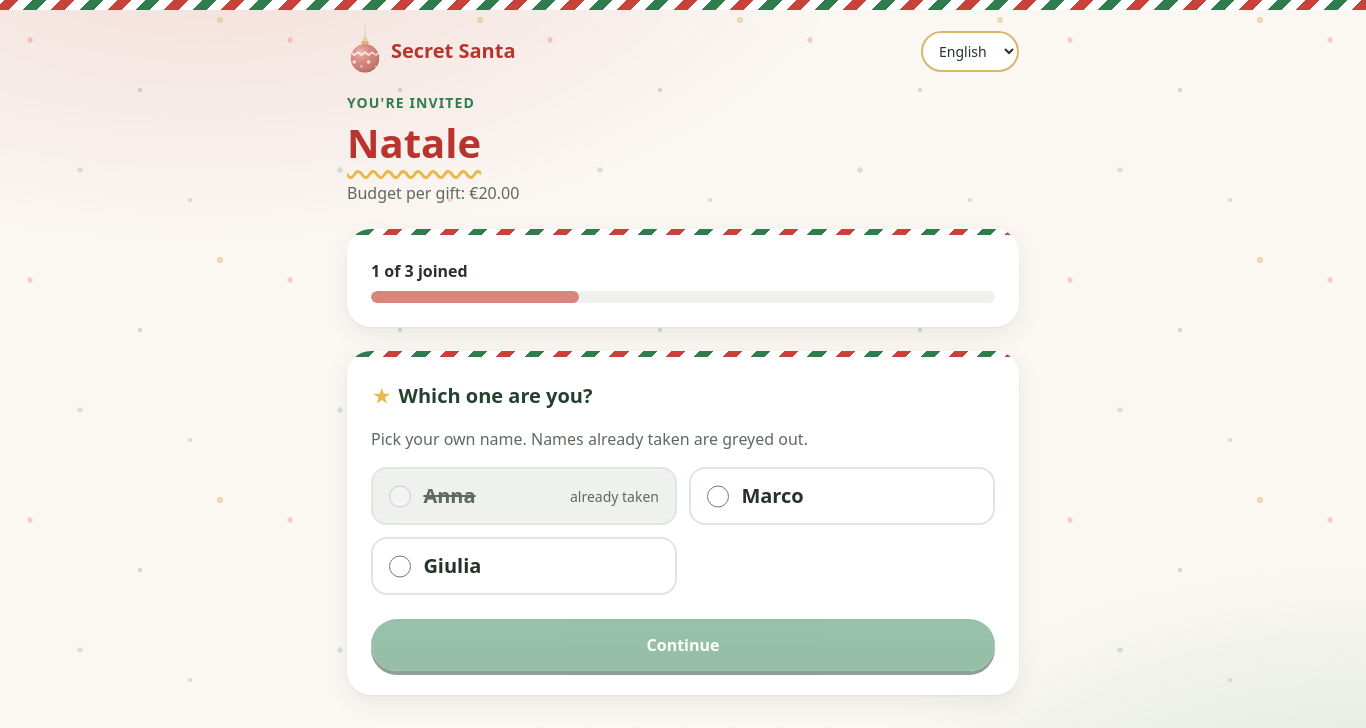
Test: join › lets a friend pick a free name, confirm it and keep the token on this device
Expected: the heading "Natale" is shown, [347,115,481,170]
Expected: the radio button labelled "Anna already taken" is disabled, [389,485,411,508]
Click the radio button labelled "Marco": (718, 496) [707,485,729,508]
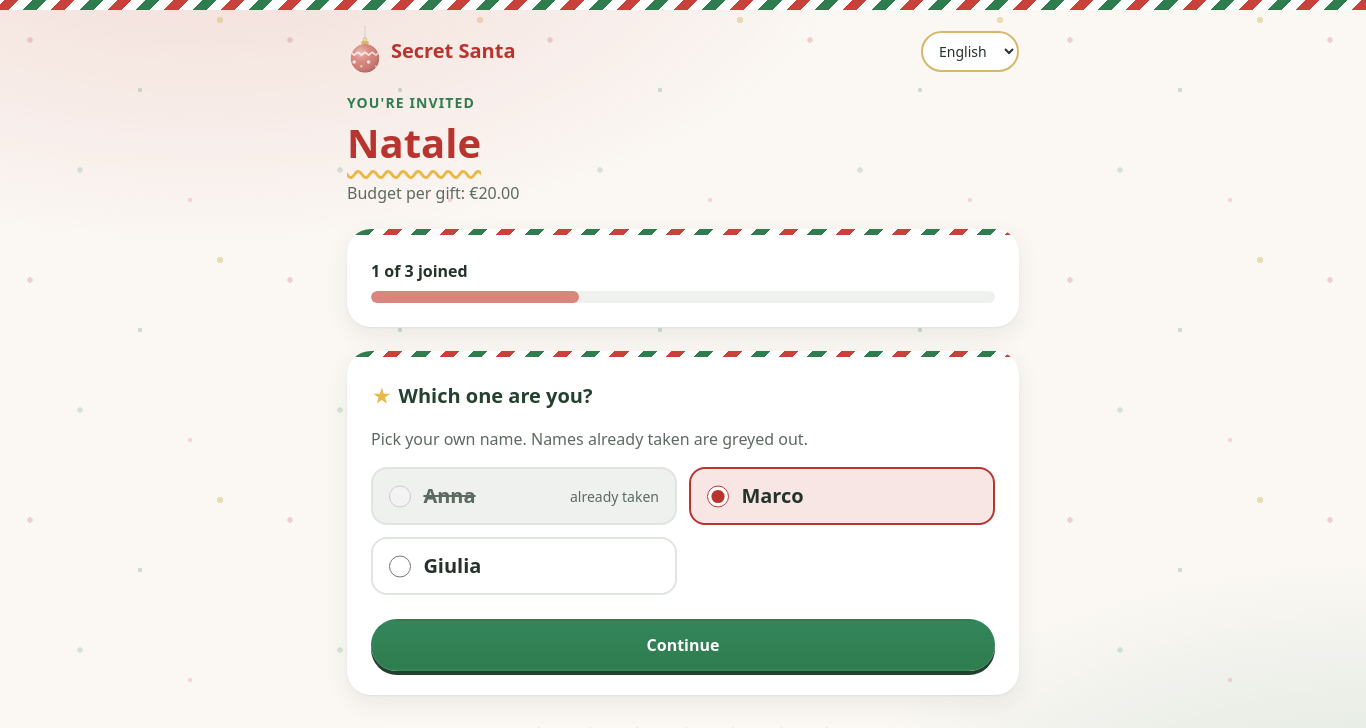
Click the button "Continue": (683, 645) [371,619,995,671]
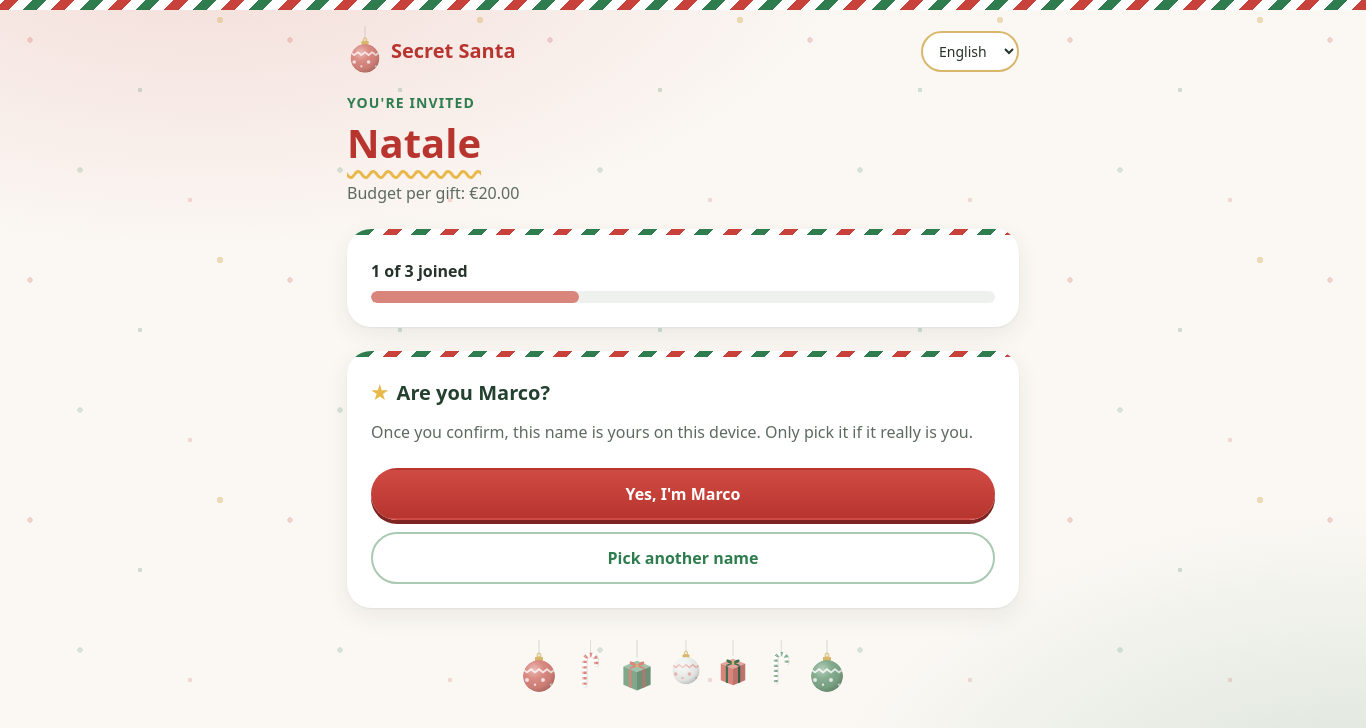
Click the button "Yes, I'm Marco": (683, 494) [371,468,995,520]
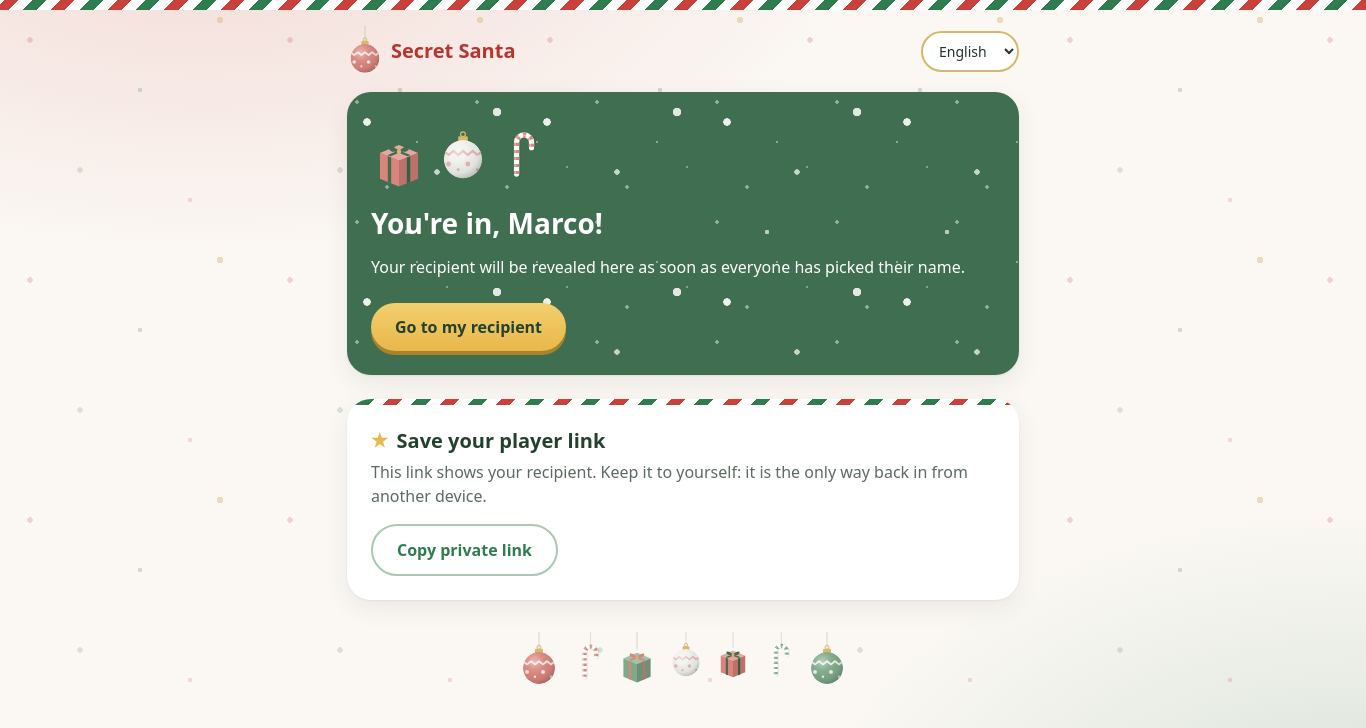
Now the heading "You're in, Marco!" is shown, box [371,204,603,242]
